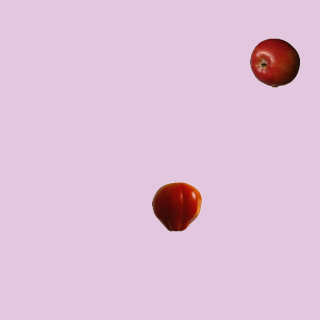Apple Braeburn: (249, 37, 299, 87)
Tomato 1: (151, 181, 201, 231)
